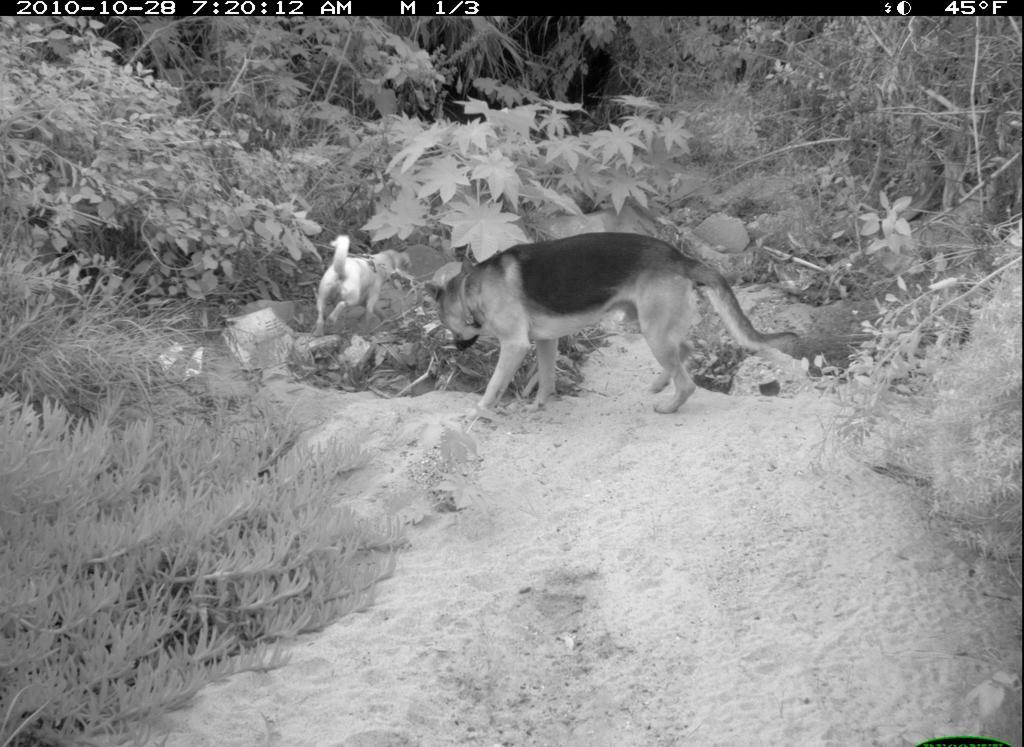dog: (428, 225, 802, 421), (314, 232, 413, 345)
